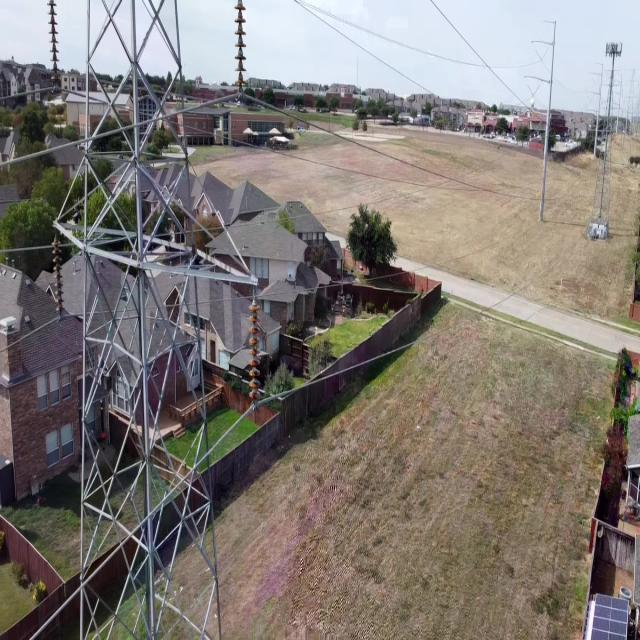杆塔: (44, 0, 272, 639), (579, 27, 628, 233)
正常绝缘子: (242, 287, 267, 419), (228, 0, 254, 110), (41, 2, 71, 96), (45, 225, 71, 332)
